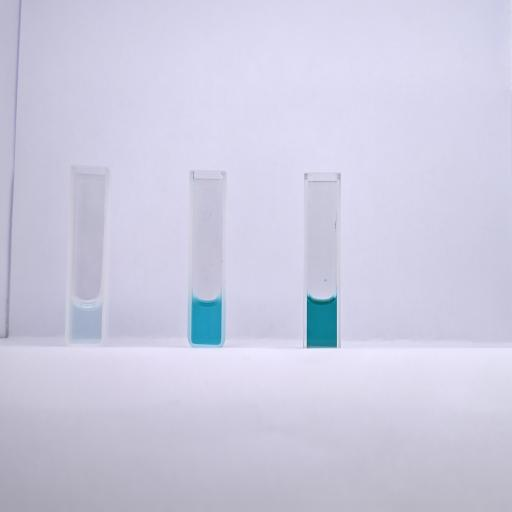cuvette: (63, 162, 111, 346), (186, 167, 228, 348), (302, 171, 343, 350)
liquid: (307, 295, 337, 346), (191, 296, 221, 344), (70, 298, 102, 342)
